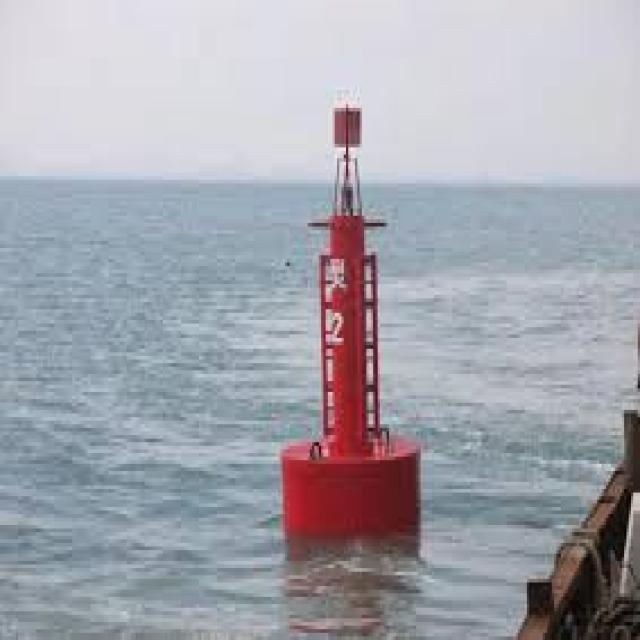buoy: (265, 65, 431, 562)
